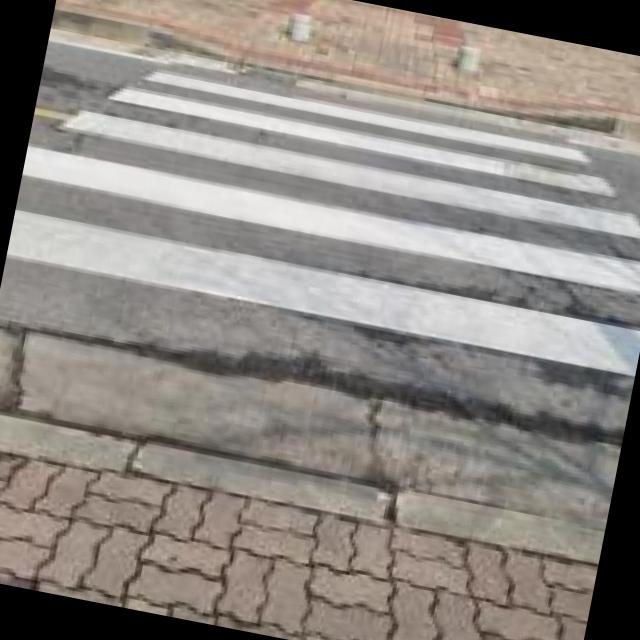zebra: (3, 55, 640, 415)
